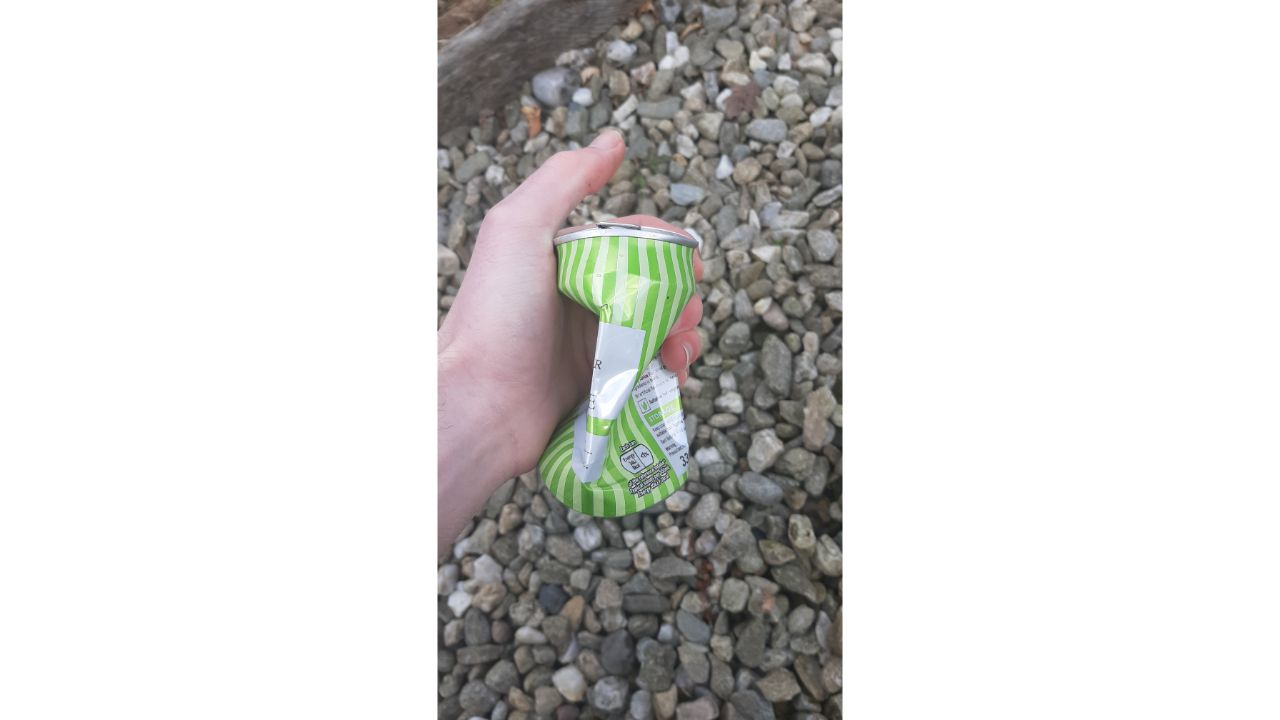Can: (527, 211, 714, 528)
